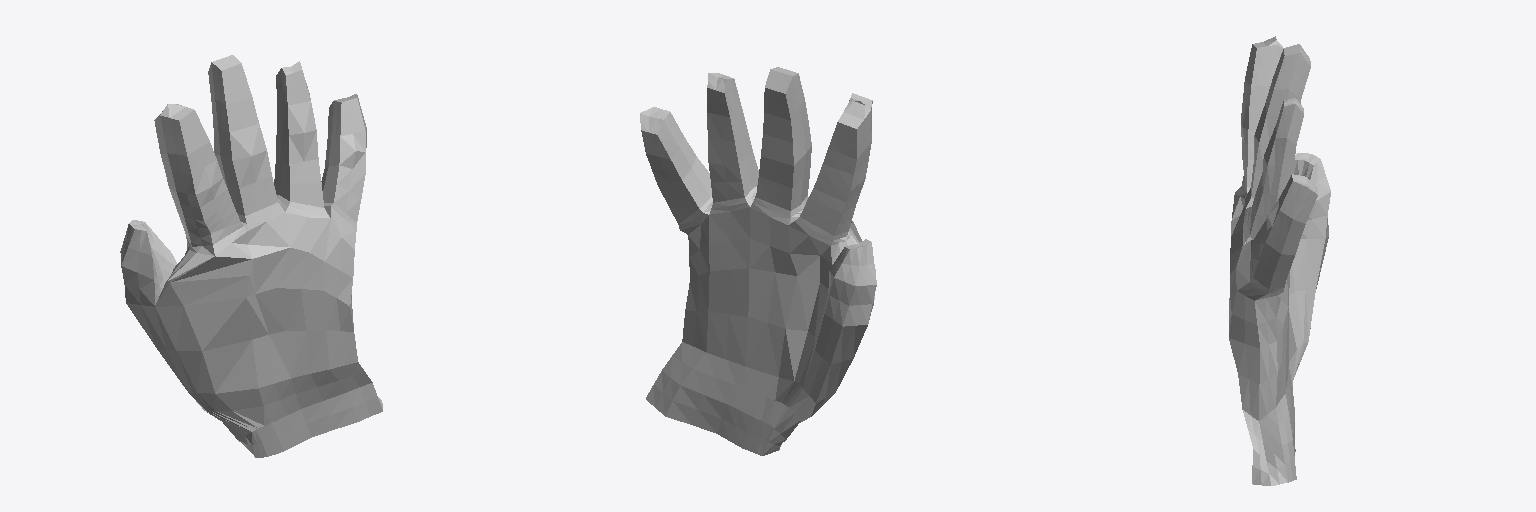
File: grip0007.obj
The picture shows the model from 3 angles: view 1: azimuth 30°, elevation 25°; view 2: azimuth 150°, elevation 25°; view 3: azimuth 270°, elevation 25°; orthographic projection.
Visible parts, largest first — view 1: Hand; view 2: Hand; view 3: Hand.
Boxes of the visible parts, <box> form: Hand: <box>120,55,382,457</box>; Hand: <box>640,67,876,455</box>; Hand: <box>1229,36,1330,485</box>.
Bounding box in the file's own units: 3.19 × 4.93 × 1.16.